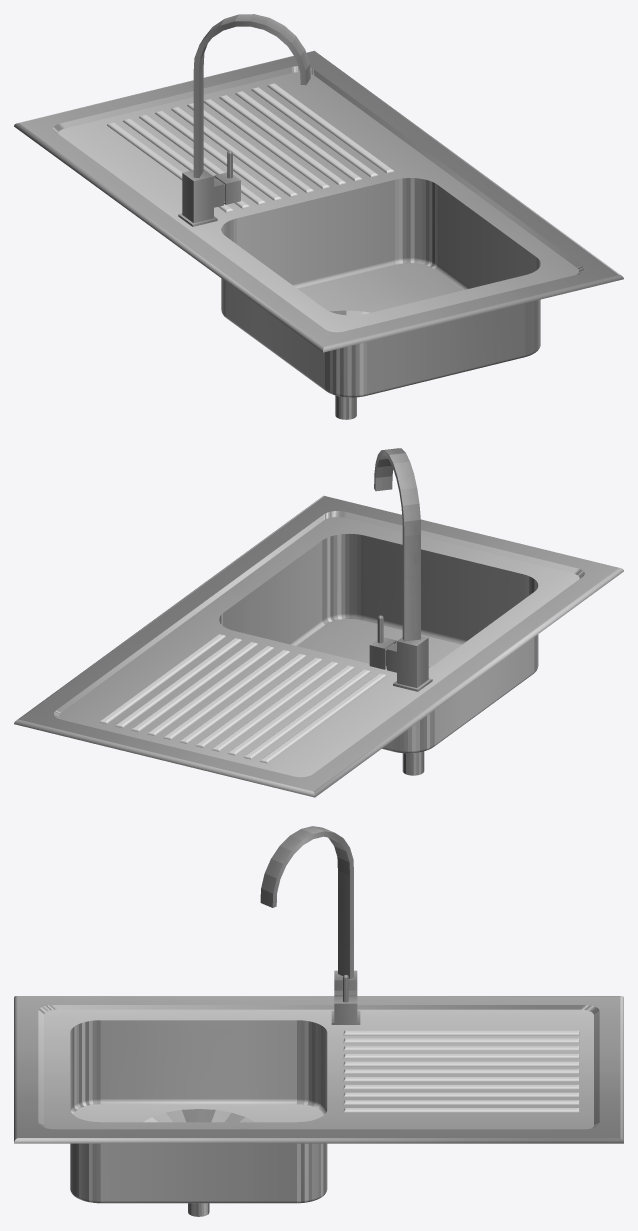
3 renders of one model, top to bottom at view 1: azimuth 30°, elevation 25°; view 2: azimuth 150°, elevation 25°; view 3: azimuth 270°, elevation 25°, orthographic.
Parts seen in each view (by area): view 1: mesh_0_ROOT__Component_3_мебели, mesh_12_ROOT__Component_55_мебели, mesh_2_ROOT__Component_3__Component_31_мебели, mesh_8_ROOT__Component_3__Component_31_мебели, mesh_10_ROOT__Component_3__Component_31_мебели, mesh_9_ROOT__Component_3__Component_31_мебели, mesh_7_ROOT__Component_3__Component_31_мебели, mesh_11_ROOT__Component_3__Component_31_мебели, mesh_6_ROOT__Component_3__Component_31_мебели, mesh_1_ROOT__Component_3__Component_31_мебели, mesh_3_ROOT__Component_3__Component_31_мебели, mesh_5_ROOT__Component_3__Component_31_мебели (+1 smaller); view 2: mesh_0_ROOT__Component_3_мебели, mesh_12_ROOT__Component_55_мебели, mesh_4_ROOT__Component_3__Component_31_мебели, mesh_1_ROOT__Component_3__Component_31_мебели, mesh_3_ROOT__Component_3__Component_31_мебели, mesh_5_ROOT__Component_3__Component_31_мебели, mesh_6_ROOT__Component_3__Component_31_мебели, mesh_9_ROOT__Component_3__Component_31_мебели, mesh_10_ROOT__Component_3__Component_31_мебели, mesh_11_ROOT__Component_3__Component_31_мебели, mesh_7_ROOT__Component_3__Component_31_мебели, mesh_2_ROOT__Component_3__Component_31_мебели (+1 smaller); view 3: mesh_0_ROOT__Component_3_мебели, mesh_12_ROOT__Component_55_мебели, mesh_5_ROOT__Component_3__Component_31_мебели, mesh_6_ROOT__Component_3__Component_31_мебели, mesh_10_ROOT__Component_3__Component_31_мебели, mesh_4_ROOT__Component_3__Component_31_мебели, mesh_9_ROOT__Component_3__Component_31_мебели, mesh_11_ROOT__Component_3__Component_31_мебели, mesh_8_ROOT__Component_3__Component_31_мебели, mesh_1_ROOT__Component_3__Component_31_мебели, mesh_2_ROOT__Component_3__Component_31_мебели, mesh_7_ROOT__Component_3__Component_31_мебели (+1 smaller).
Part boxes in pixels (x1,y1,x2,y2): mesh_0_ROOT__Component_3_мебели: [14, 50, 623, 419]; mesh_12_ROOT__Component_55_мебели: [178, 14, 310, 226]; mesh_2_ROOT__Component_3__Component_31_мебели: [267, 83, 394, 173]; mesh_8_ROOT__Component_3__Component_31_мебели: [219, 95, 345, 185]; mesh_10_ROOT__Component_3__Component_31_мебели: [251, 87, 377, 177]; mesh_9_ROOT__Component_3__Component_31_мебели: [235, 91, 361, 181]; mesh_7_ROOT__Component_3__Component_31_мебели: [203, 99, 329, 189]; mesh_11_ROOT__Component_3__Component_31_мебели: [187, 103, 313, 193]; mesh_6_ROOT__Component_3__Component_31_мебели: [171, 107, 297, 196]; mesh_1_ROOT__Component_3__Component_31_мебели: [155, 111, 281, 200]; mesh_3_ROOT__Component_3__Component_31_мебели: [139, 114, 265, 204]; mesh_5_ROOT__Component_3__Component_31_мебели: [107, 122, 233, 212]; mesh_0_ROOT__Component_3_мебели: [14, 495, 623, 797]; mesh_12_ROOT__Component_55_мебели: [369, 448, 432, 691]; mesh_4_ROOT__Component_3__Component_31_мебели: [243, 669, 370, 759]; mesh_1_ROOT__Component_3__Component_31_мебели: [211, 661, 338, 751]; mesh_3_ROOT__Component_3__Component_31_мебели: [227, 665, 354, 755]; mesh_5_ROOT__Component_3__Component_31_мебели: [260, 673, 386, 763]; mesh_6_ROOT__Component_3__Component_31_мебели: [195, 657, 322, 747]; mesh_9_ROOT__Component_3__Component_31_мебели: [131, 642, 257, 731]; mesh_10_ROOT__Component_3__Component_31_мебели: [115, 638, 241, 728]; mesh_11_ROOT__Component_3__Component_31_мебели: [179, 653, 306, 743]; mesh_7_ROOT__Component_3__Component_31_мебели: [163, 649, 289, 739]; mesh_2_ROOT__Component_3__Component_31_мебели: [99, 634, 225, 724]; mesh_0_ROOT__Component_3_мебели: [14, 996, 623, 1216]; mesh_12_ROOT__Component_55_мебели: [260, 826, 360, 1024]; mesh_5_ROOT__Component_3__Component_31_мебели: [343, 1030, 579, 1035]; mesh_6_ROOT__Component_3__Component_31_мебели: [343, 1061, 579, 1066]; mesh_10_ROOT__Component_3__Component_31_мебели: [343, 1100, 579, 1105]; mesh_4_ROOT__Component_3__Component_31_мебели: [343, 1038, 579, 1043]; mesh_9_ROOT__Component_3__Component_31_мебели: [343, 1092, 579, 1097]; mesh_11_ROOT__Component_3__Component_31_мебели: [343, 1069, 579, 1074]; mesh_8_ROOT__Component_3__Component_31_мебели: [343, 1084, 579, 1089]; mesh_1_ROOT__Component_3__Component_31_мебели: [343, 1054, 579, 1058]; mesh_2_ROOT__Component_3__Component_31_мебели: [343, 1108, 579, 1112]; mesh_7_ROOT__Component_3__Component_31_мебели: [343, 1077, 579, 1081].
Bounding box in the file's own units: 450 × 524 × 800.
Materials: 2 (1 with a texture image).
